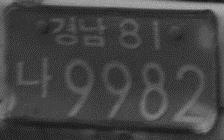1: (150, 18, 162, 51)
2: (172, 63, 209, 124)
8: (139, 60, 169, 121), (114, 17, 143, 50)
9: (63, 56, 96, 120), (100, 58, 132, 118)
경남_O: (49, 16, 108, 49)
나: (14, 56, 53, 99)
